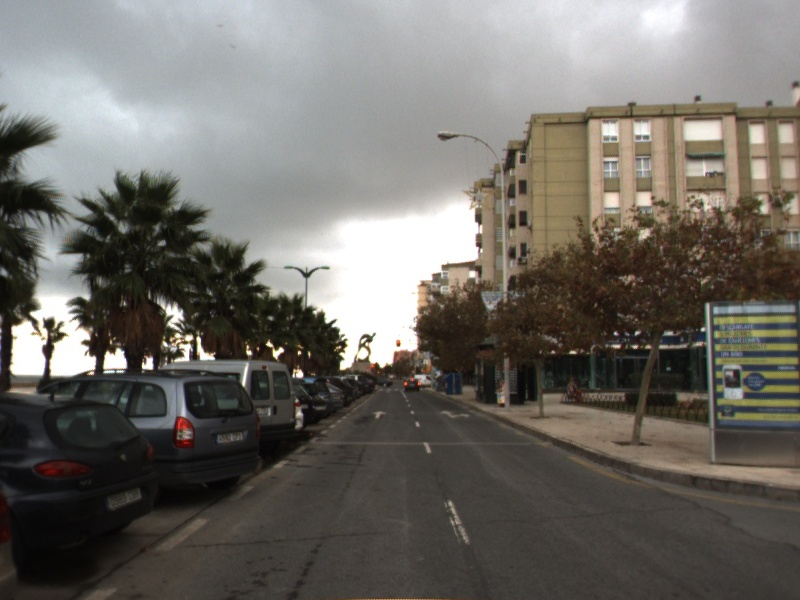STRAIGHT: (370, 409, 388, 420)
STRAIGHT_RIGHT: (438, 409, 472, 420)
